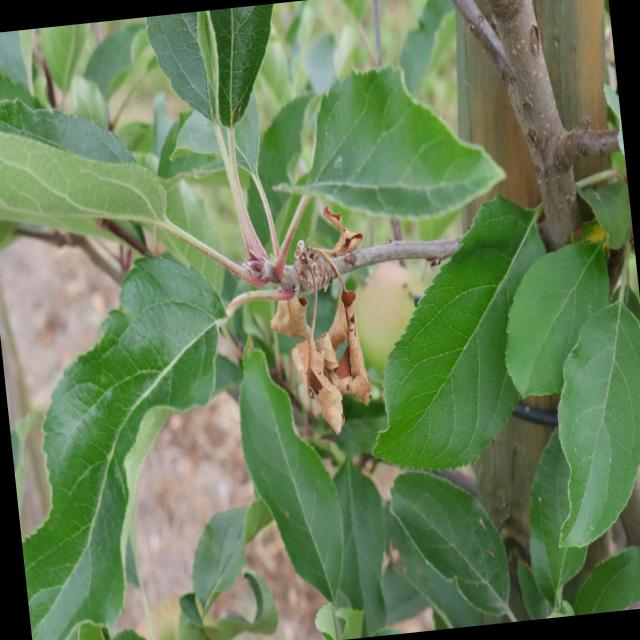-FireBlight-: (250, 202, 400, 443)
